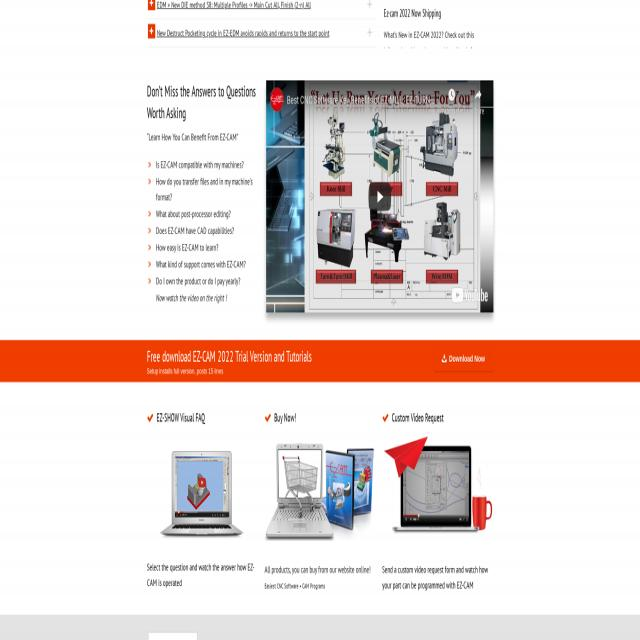button: (266, 80, 494, 313), (146, 436, 258, 556), (264, 433, 376, 552), (382, 433, 493, 552), (147, 20, 376, 45), (146, 0, 377, 16), (433, 346, 493, 372), (436, 86, 466, 121), (367, 181, 392, 211), (470, 86, 488, 122), (270, 88, 284, 111)
field: (147, 410, 155, 425), (265, 410, 273, 425), (382, 410, 390, 425)
